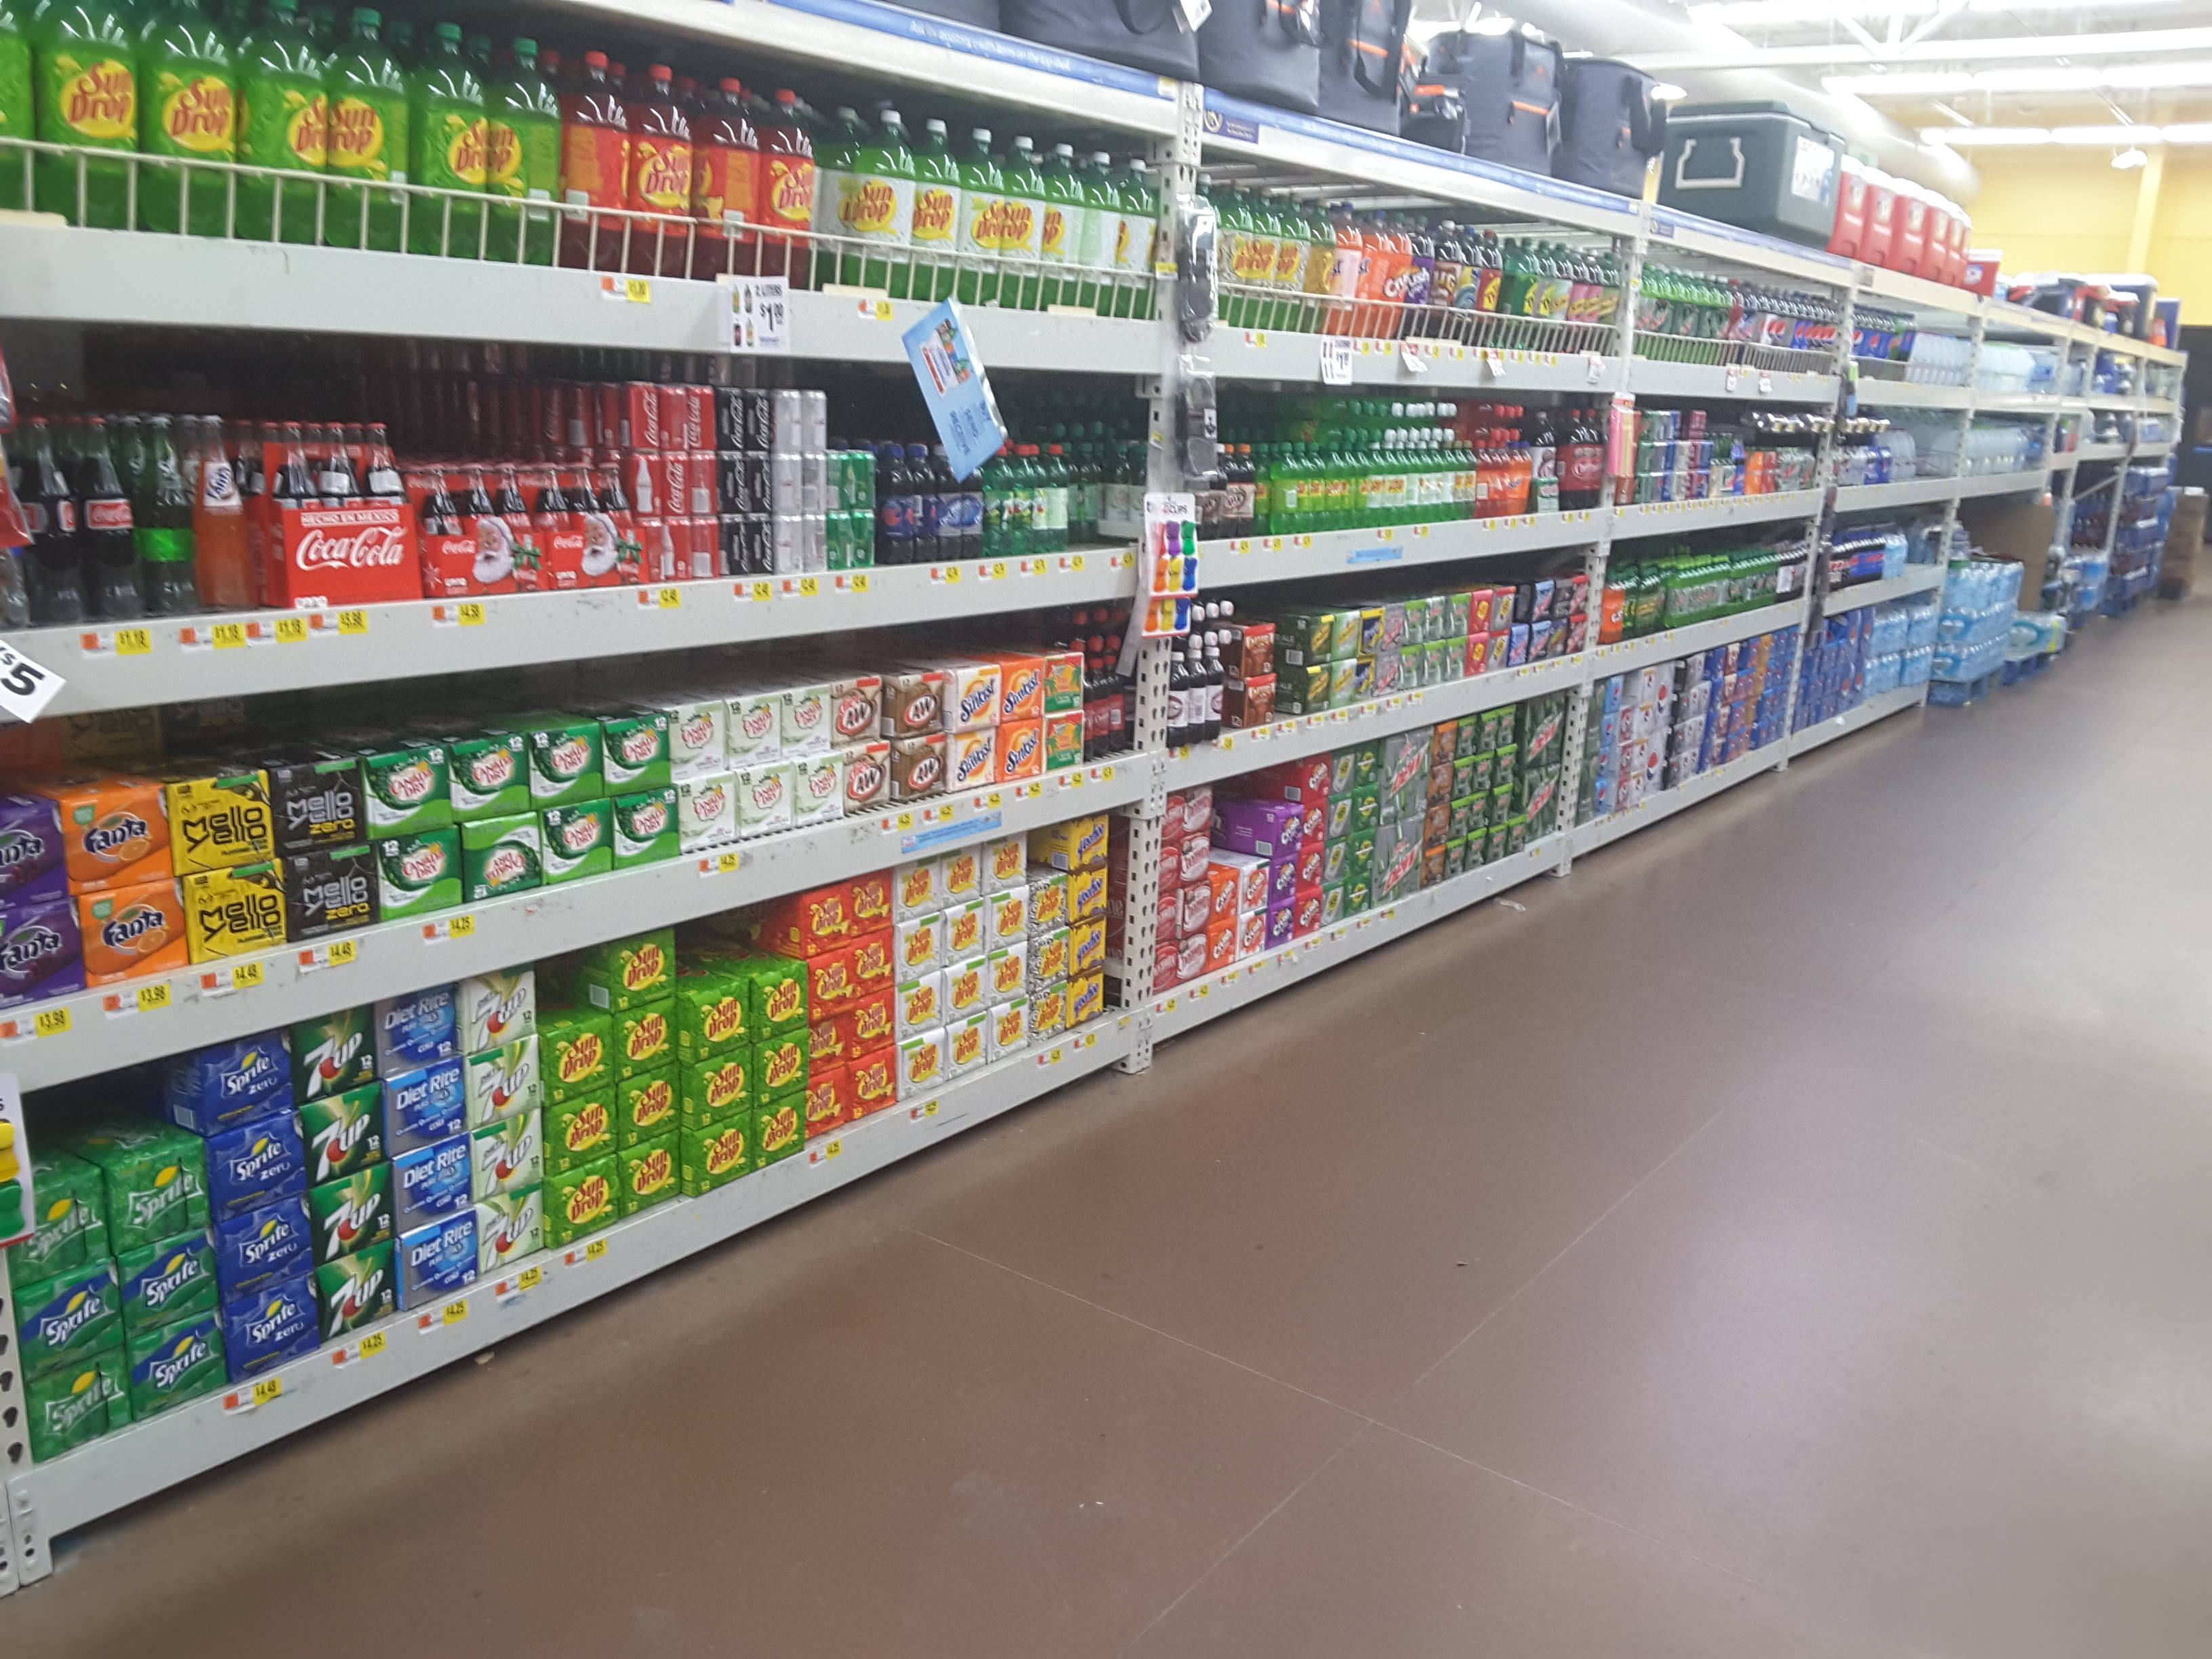Misplacement: (674, 890, 815, 1192), (535, 950, 624, 1255), (1198, 774, 1275, 965), (1022, 824, 1078, 1046), (1069, 446, 1139, 561)
Out-of-stock: (1268, 617, 1306, 737)
